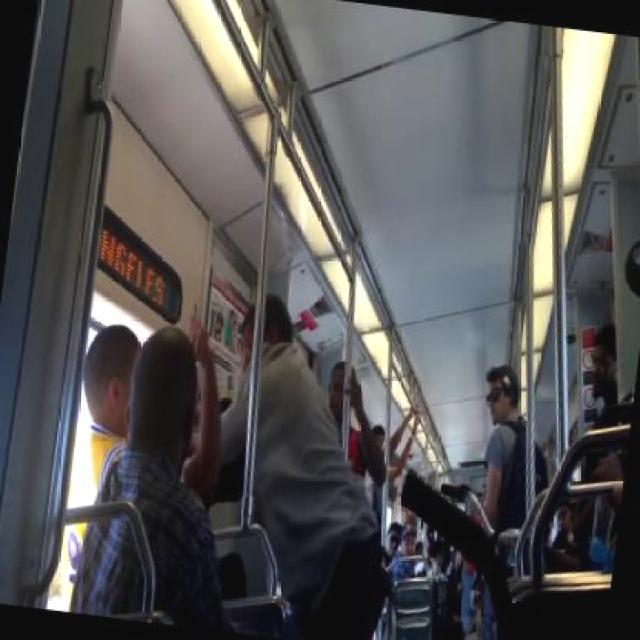fight: (56, 274, 410, 638)
non-fight: (467, 356, 558, 516)
